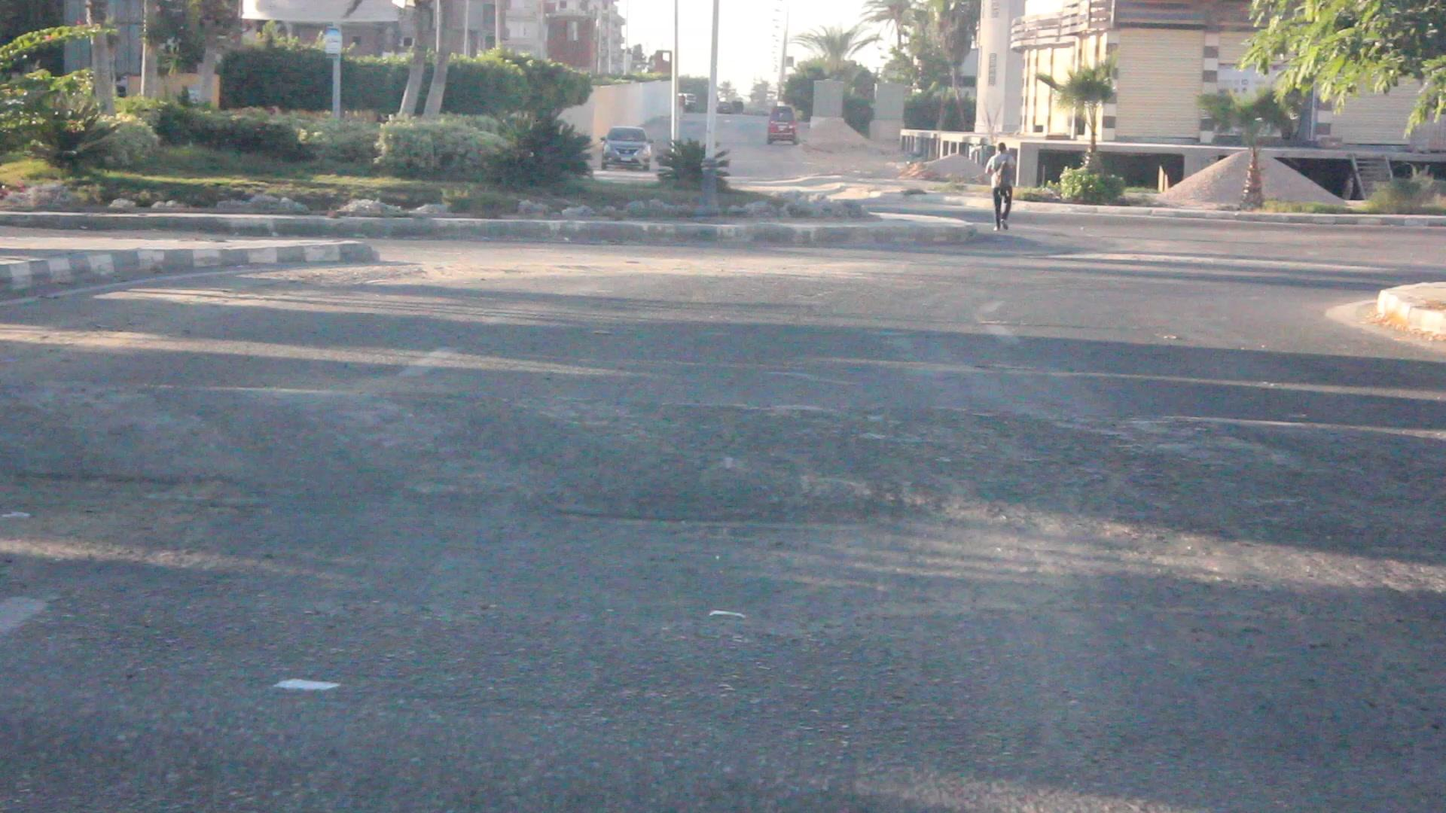Bump: (0, 384, 1446, 521)
Pothole: (0, 452, 245, 527)
